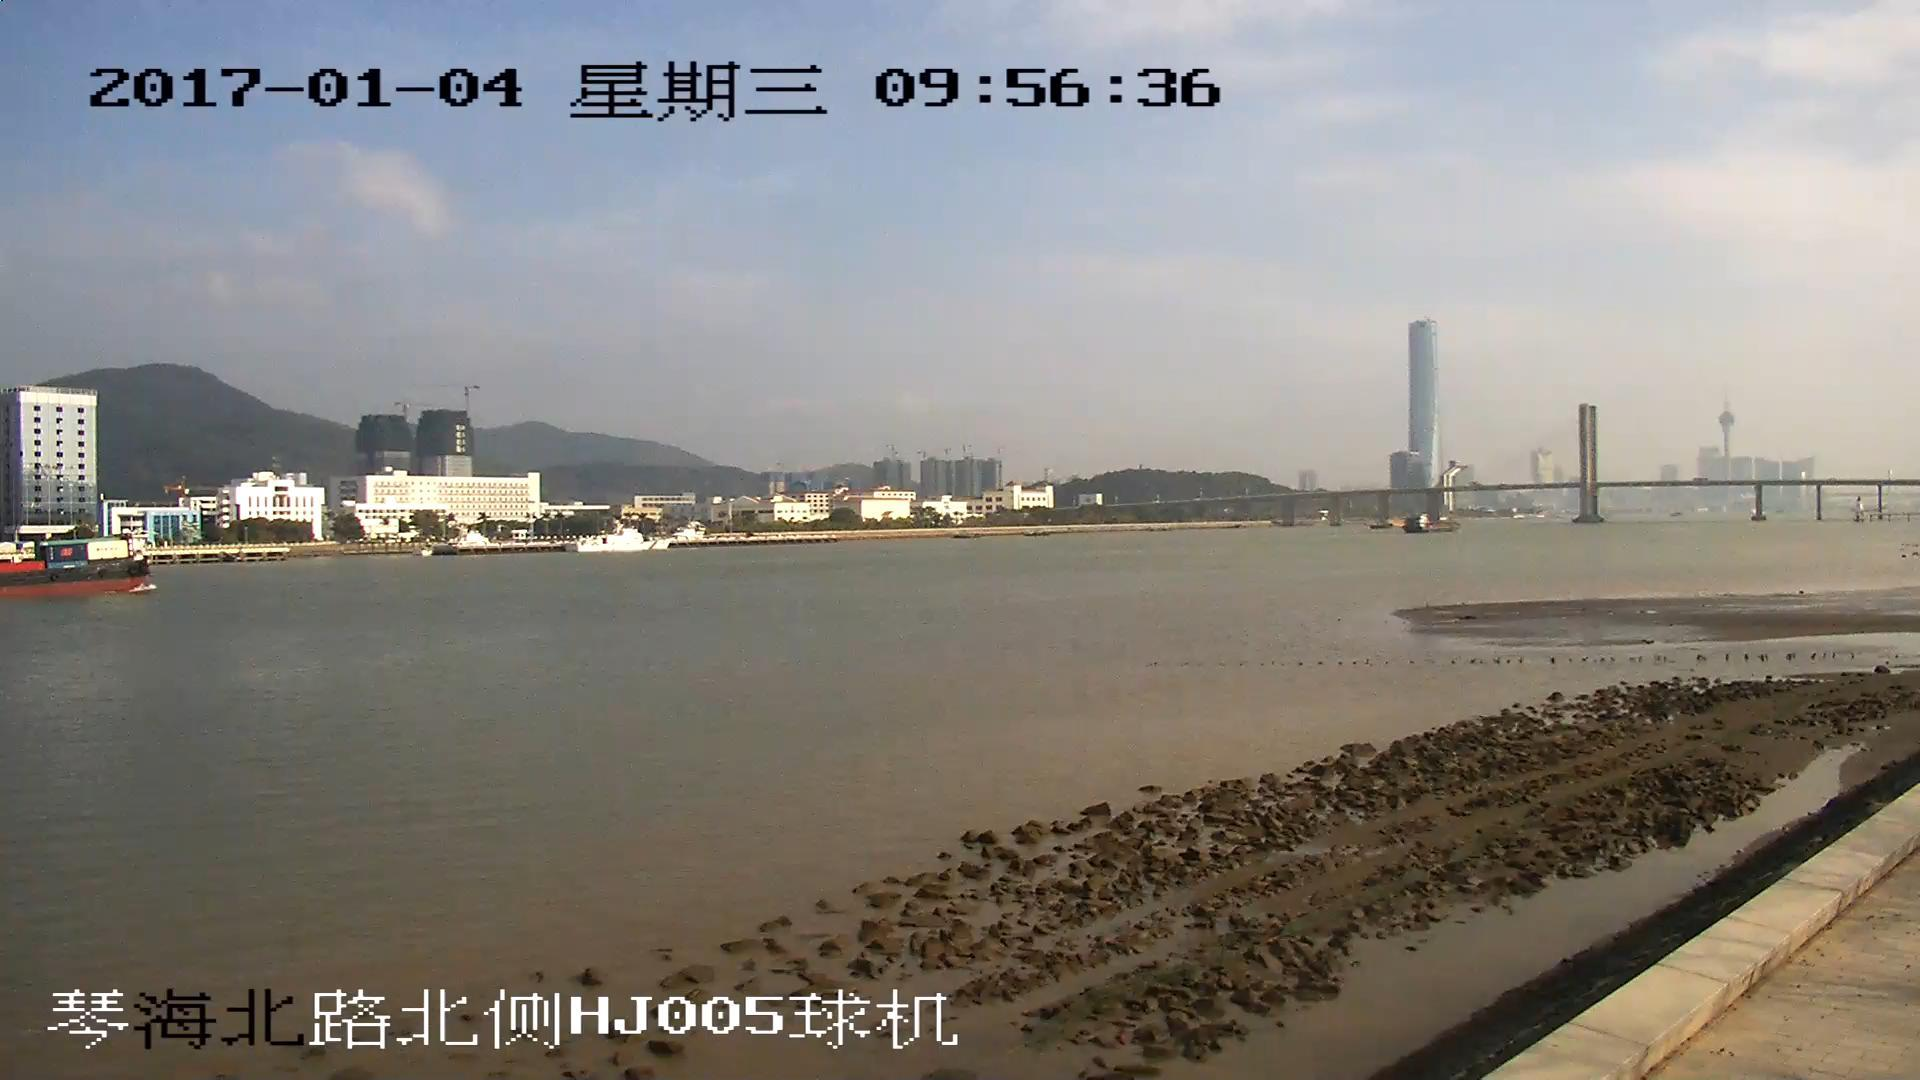Ship: (3, 538, 152, 595)
